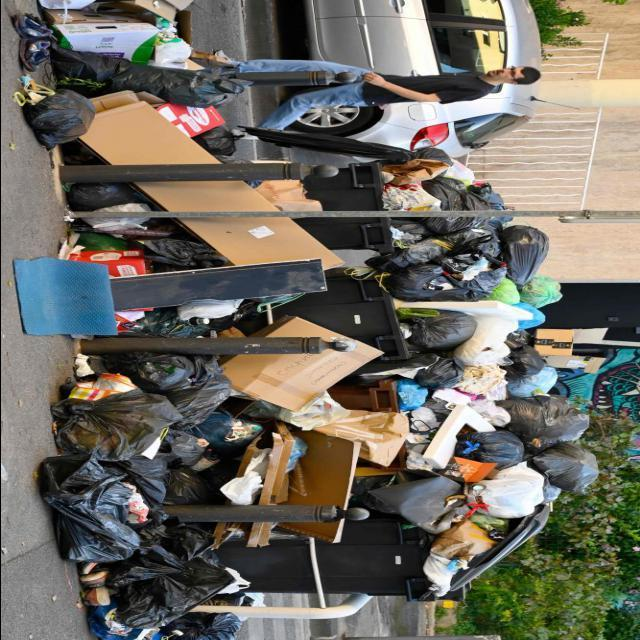Trashbag: (43, 394, 167, 462), (78, 48, 232, 102), (50, 475, 134, 567), (18, 82, 104, 152), (142, 532, 212, 608), (508, 391, 584, 448), (160, 378, 230, 438), (115, 345, 197, 392), (534, 442, 602, 493), (412, 310, 476, 362), (124, 455, 174, 515), (510, 219, 550, 278), (395, 255, 445, 302), (170, 431, 200, 507), (441, 184, 477, 228)
